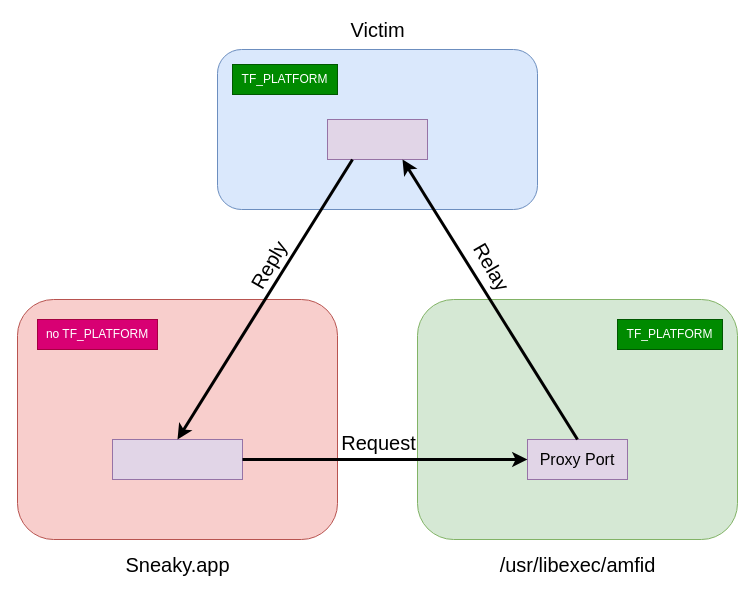
Some shapes in this 755 by 593 pixel diagram are drawn without their labels. Each missing label, with the box of its shape:
Mach Message: (112, 438, 242, 480)
Task Port: (326, 118, 428, 160)
